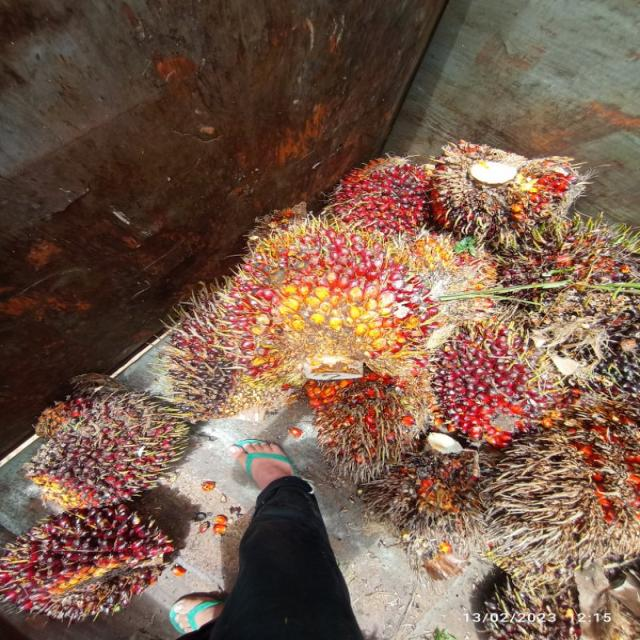fraksi 00: (154, 282, 248, 417)
fraksi 1: (23, 355, 203, 516), (0, 481, 193, 626)
fraksi 3: (208, 194, 457, 414), (430, 307, 555, 440), (304, 130, 439, 246)
fraksi 4: (546, 379, 640, 566), (288, 352, 434, 466)
